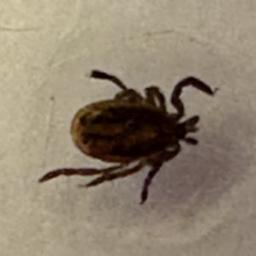Ixodes scapularis: (36, 69, 215, 206)
